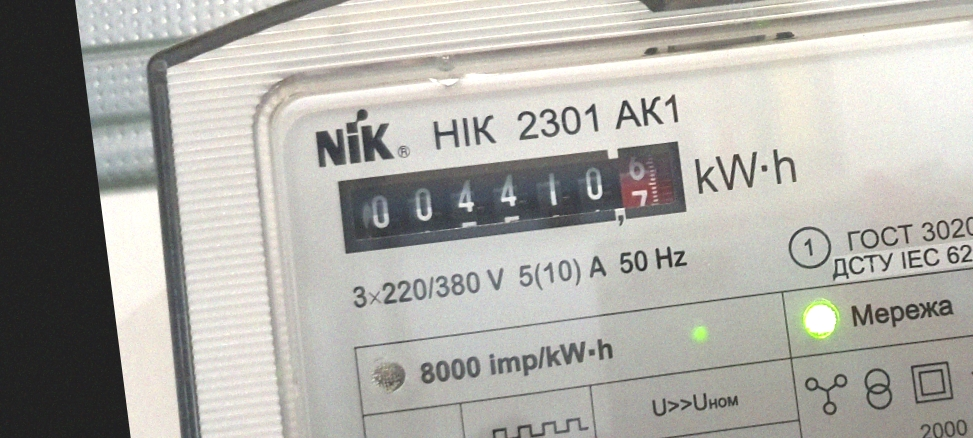0: (366, 190, 392, 231), (411, 183, 434, 223), (582, 164, 606, 202)
1: (542, 169, 560, 208)
4: (451, 174, 478, 215), (494, 170, 521, 211)
6: (627, 154, 648, 182)
7: (629, 186, 650, 208)
screen: (323, 124, 701, 268)
